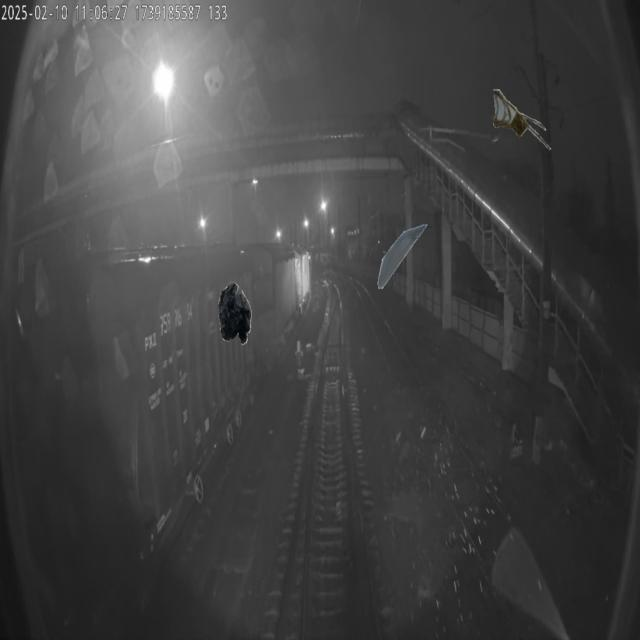floating object: (493, 90, 553, 154), (377, 224, 428, 288)
plastic bag: (218, 281, 252, 345)
